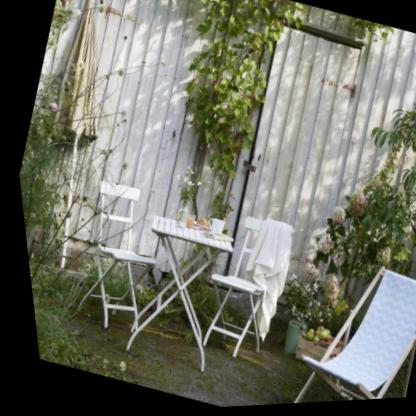Chair: (258, 246, 416, 406)
Table: (101, 207, 245, 381)
